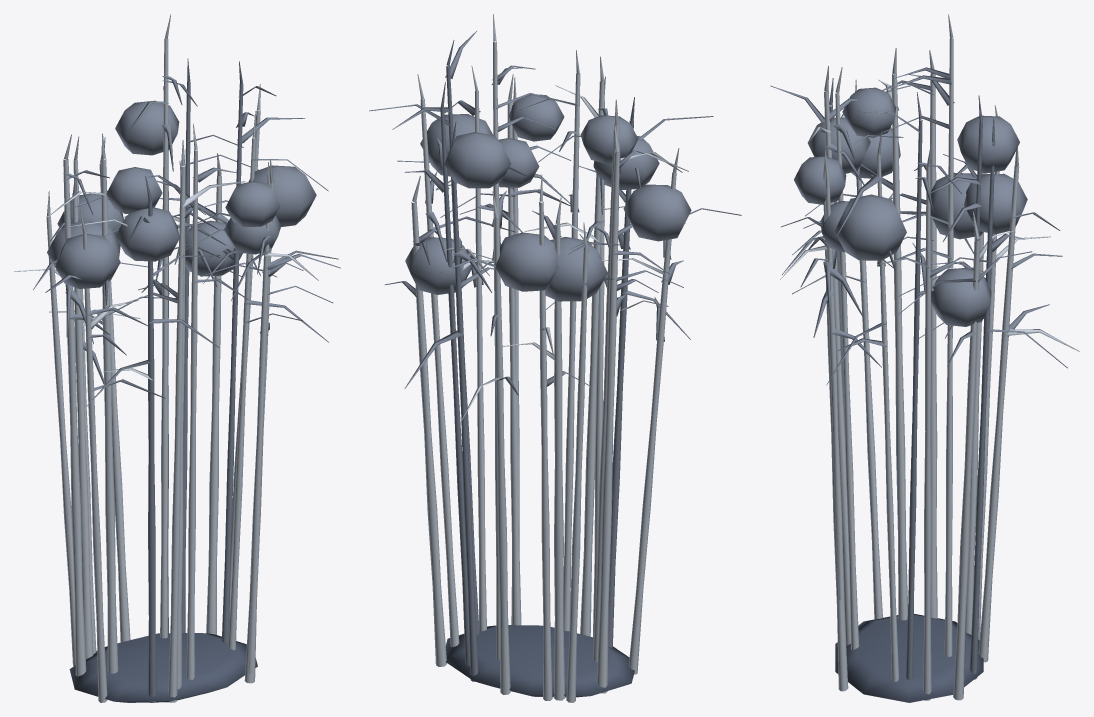
The model's file is 浓密竹丛-lite.glb.
The picture shows the model from 3 angles, left to right: view 1: azimuth 30°, elevation 25°; view 2: azimuth 150°, elevation 25°; view 3: azimuth 270°, elevation 25°; orthographic projection. The views are drawn at different scales.
Parts seen in each view (by area): view 1: garden-bamboo-dense-light, garden-bamboo-dense-leaf, garden-bamboo-dense-old, garden-bamboo-dense-soil; view 2: garden-bamboo-dense-light, garden-bamboo-dense-leaf, garden-bamboo-dense-old, garden-bamboo-dense-soil; view 3: garden-bamboo-dense-light, garden-bamboo-dense-leaf, garden-bamboo-dense-old, garden-bamboo-dense-soil.
Part boxes in pixels (x1,y1,x2,y2): garden-bamboo-dense-light: [14, 14, 318, 702]; garden-bamboo-dense-leaf: [33, 76, 340, 406]; garden-bamboo-dense-old: [145, 58, 243, 702]; garden-bamboo-dense-soil: [69, 633, 257, 702]; garden-bamboo-dense-light: [411, 14, 688, 702]; garden-bamboo-dense-leaf: [369, 31, 741, 395]; garden-bamboo-dense-old: [440, 40, 634, 681]; garden-bamboo-dense-soil: [446, 625, 634, 697]; garden-bamboo-dense-light: [780, 14, 1079, 700]; garden-bamboo-dense-leaf: [770, 67, 1067, 385]; garden-bamboo-dense-old: [829, 78, 995, 679]; garden-bamboo-dense-soil: [835, 614, 983, 702].
Size of the model in its own units: 1.2 by 2.4 by 1.
